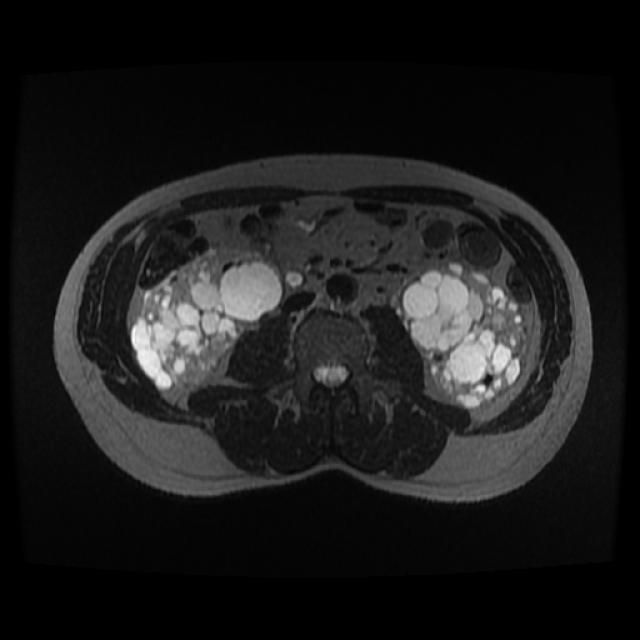sag: (129, 241, 287, 404)
sol: (393, 252, 532, 410)
